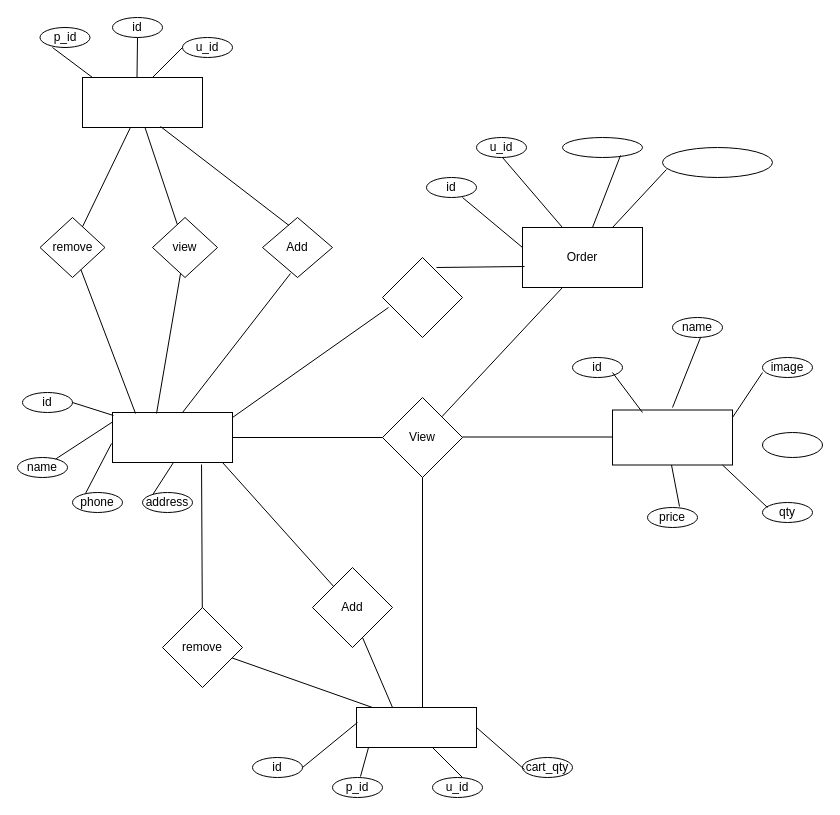
Some shapes in this 840 by 815 pixel diagram are drawn without their labels. The box of each missing label's shape, as (x1, y1, x2, y2) in pixels:
buying_time: (562, 136, 642, 158)
Cart: (356, 706, 476, 748)
decription: (762, 432, 822, 458)
order received time: (662, 146, 772, 178)
Products: (612, 409, 732, 465)
Purchase: (382, 256, 462, 338)
User: (112, 412, 232, 462)
Wishlist: (82, 76, 202, 128)
